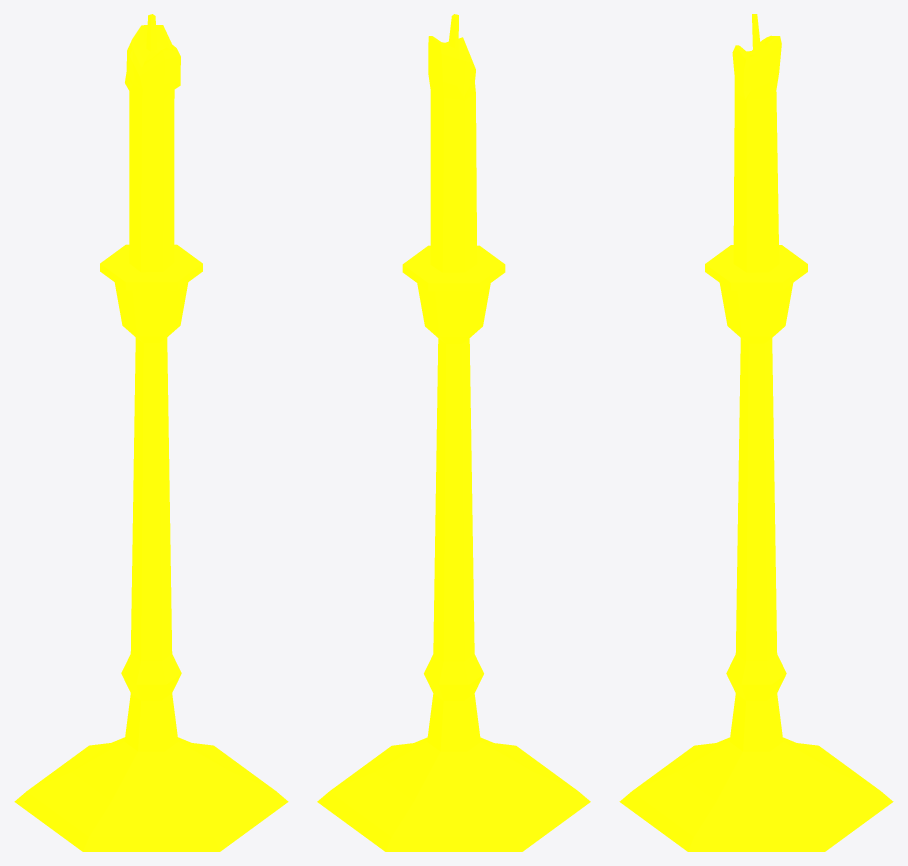
The model's file is candle-holder-tall-b-unlit-christmas.glb.
3 views of the same model, side by side, from view 1: azimuth 30°, elevation 25°; view 2: azimuth 150°, elevation 25°; view 3: azimuth 270°, elevation 25° (orthographic).
Parts seen in each view (by area): view 1: candle_holder_tall_b_unlit_christmas; view 2: candle_holder_tall_b_unlit_christmas; view 3: candle_holder_tall_b_unlit_christmas.
Boxes of the visible parts, bbox=[...] form: candle_holder_tall_b_unlit_christmas: bbox=[14, 14, 288, 851]; candle_holder_tall_b_unlit_christmas: bbox=[317, 14, 590, 851]; candle_holder_tall_b_unlit_christmas: bbox=[619, 14, 893, 851].
Size of the model in its own units: 0.1644 by 0.6008 by 0.1898.
Materials: 1 (1 with a texture image).
